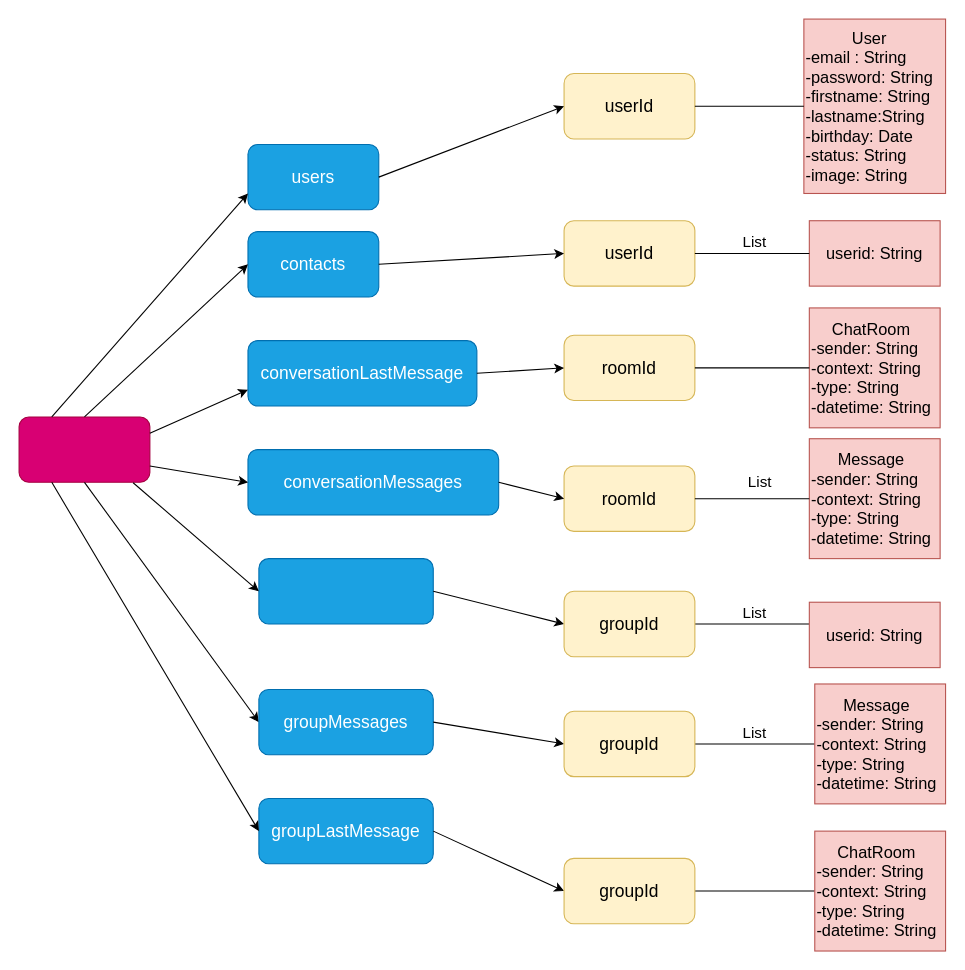
The diagram is 965 pixels wide and 970 high, and some of its shapes have lost their labels. Here are the shapes that lost their labels. From the top down, the centre of each, then its label:
(x=84, y=449): Root
(x=345, y=591): groupMember
